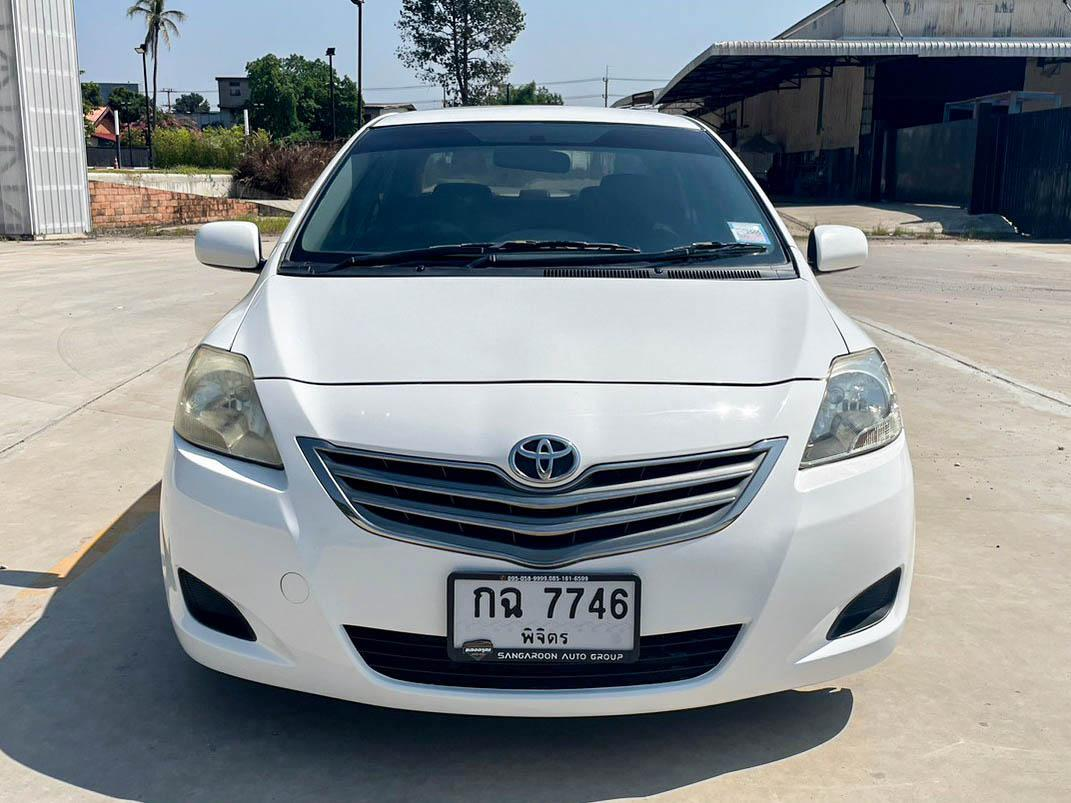license-plate: (439, 566, 652, 670)
